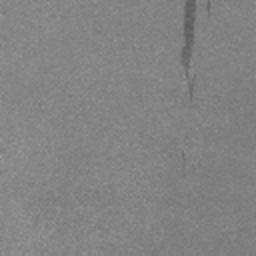Red iron sheet: (181, 0, 196, 77)
